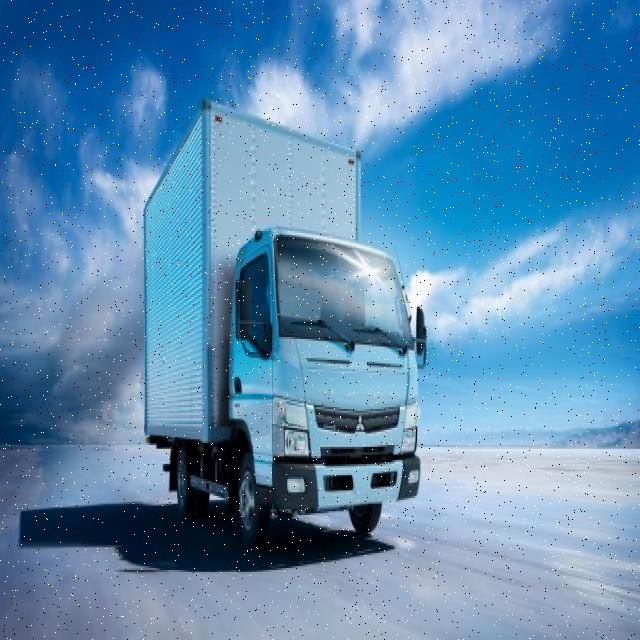truck: (142, 102, 428, 553)
